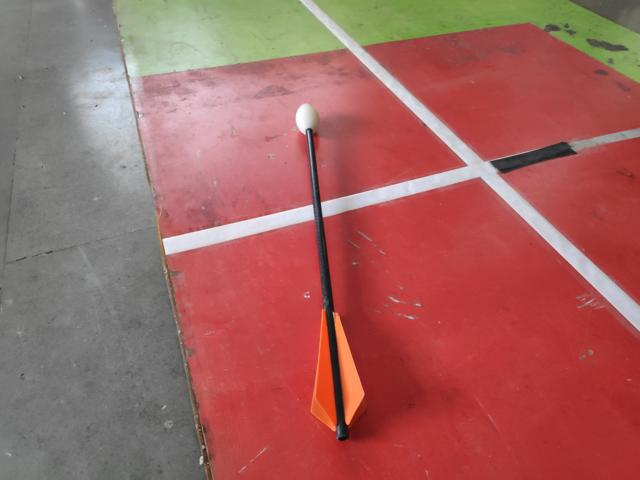Head: (293, 98, 321, 135)
Tail: (307, 309, 371, 443)
